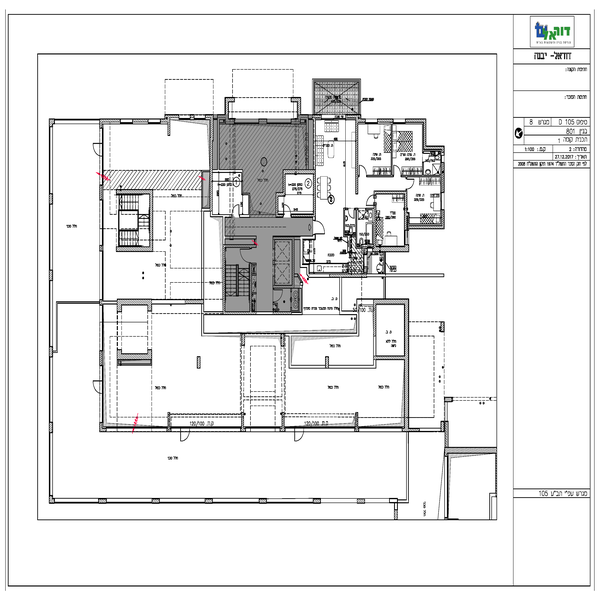door: (239, 244, 257, 269), (288, 423, 308, 445), (312, 214, 327, 238), (91, 373, 105, 395), (403, 177, 421, 193), (177, 427, 193, 443), (271, 288, 286, 305), (280, 200, 294, 217), (91, 142, 108, 155), (390, 162, 402, 178), (357, 164, 373, 174), (365, 194, 377, 206)
wall: (49, 495, 407, 504), (97, 114, 107, 431), (105, 424, 408, 432), (48, 116, 54, 503), (403, 294, 411, 431)
